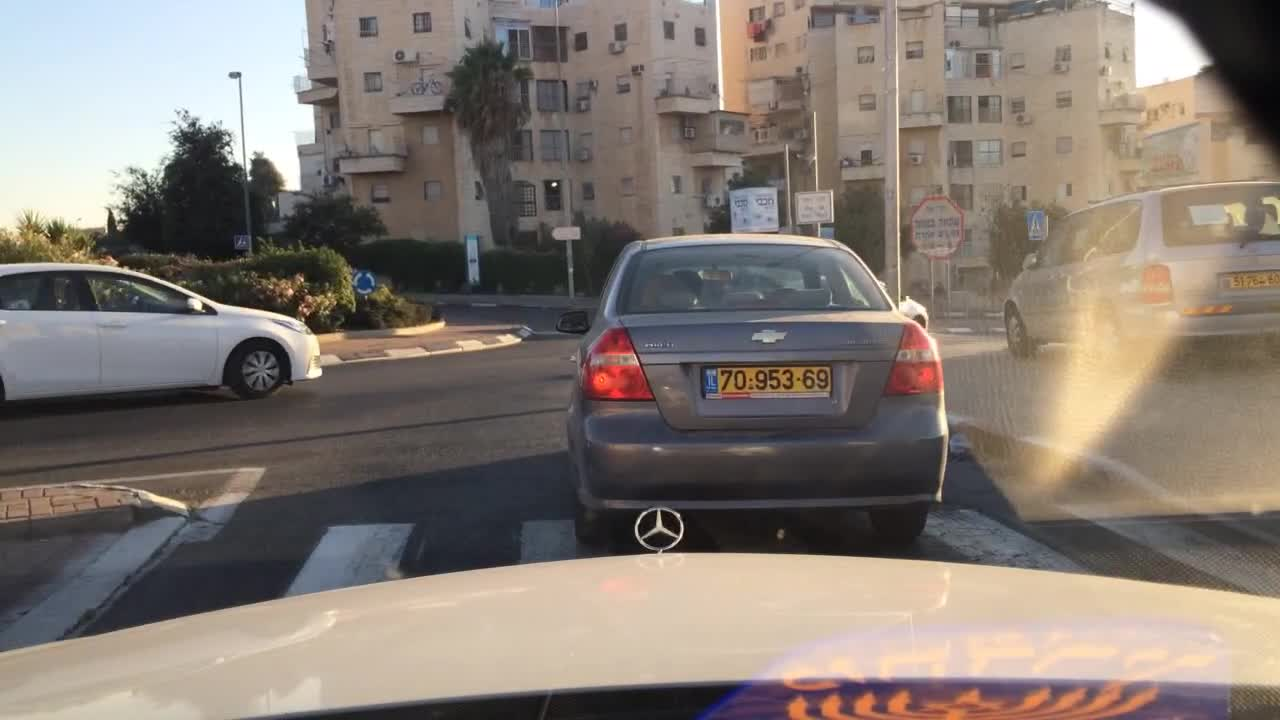car: (555, 233, 949, 544), (999, 179, 1279, 356), (1, 257, 326, 409), (878, 273, 932, 330)
traffic sign: (910, 195, 963, 260), (729, 188, 781, 233), (793, 192, 835, 224), (1025, 209, 1046, 240), (549, 224, 581, 242), (350, 272, 373, 291), (232, 232, 250, 249)
